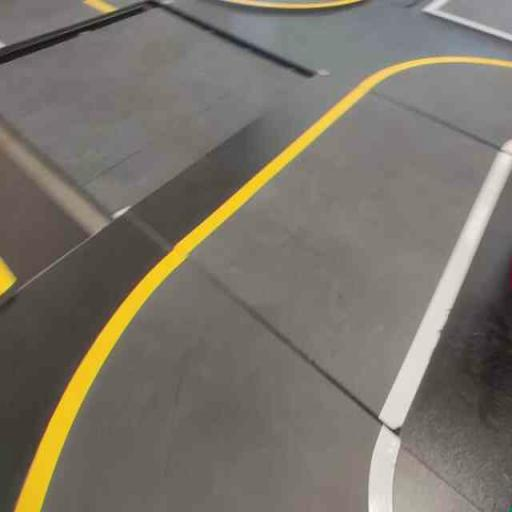right: (13, 212, 430, 511)
